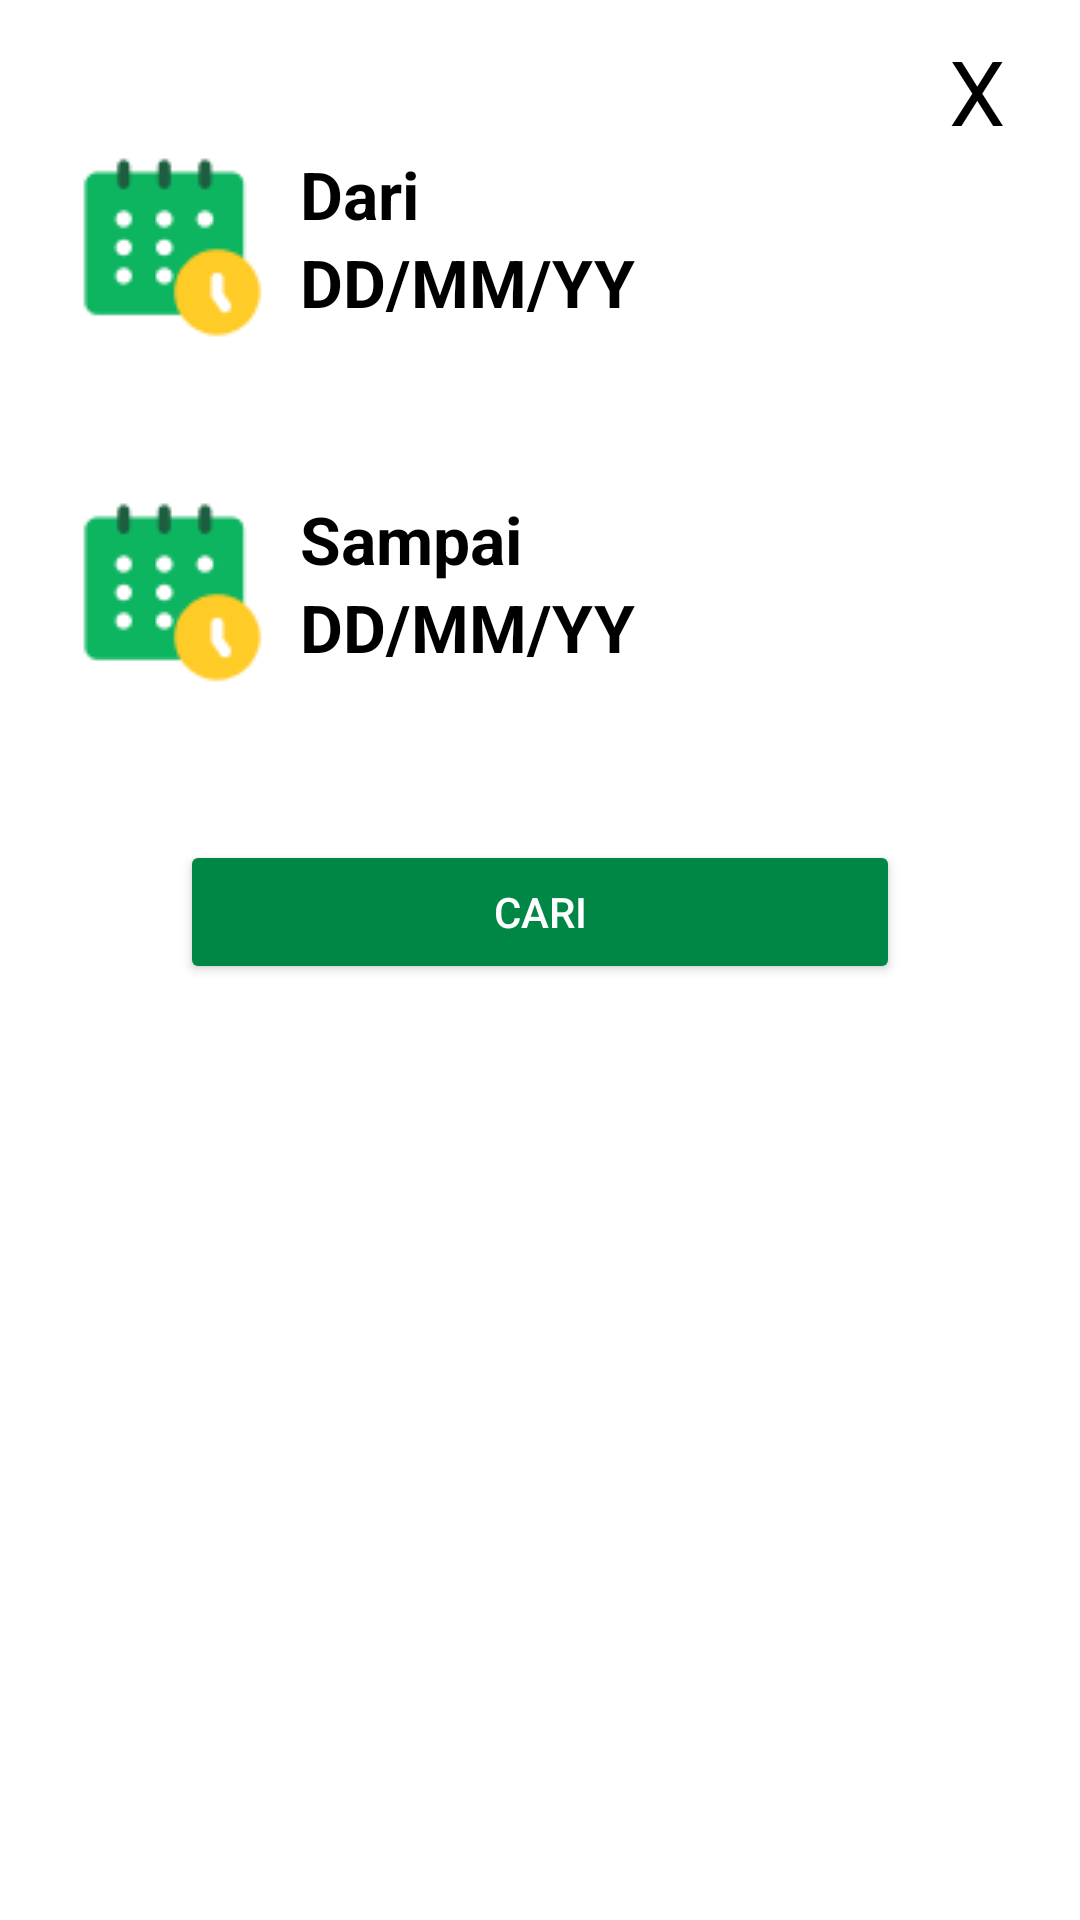

Icons on this 1080×1920 Android screen, each with the point to tap as (x,y):
date: (172,247), (172,592)
